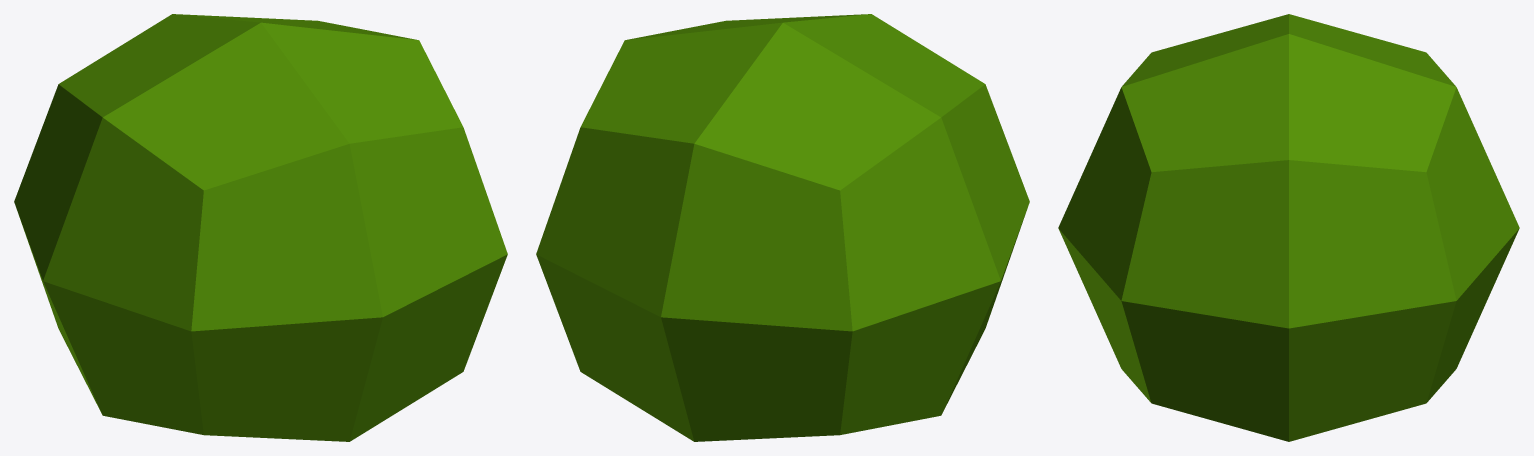
Rendered from Cogollito.fbx.
3 renders of one model, left to right at view 1: azimuth 30°, elevation 25°; view 2: azimuth 150°, elevation 25°; view 3: azimuth 270°, elevation 25°, orthographic. The views are drawn at different scales.
Visible parts, largest first — view 1: Cube; view 2: Cube; view 3: Cube.
Part boxes in pixels (<box>): Cube: <box>14,14,507,441</box>; Cube: <box>536,14,1029,441</box>; Cube: <box>1058,14,1519,441</box>.
Size of the model in its own units: 197 by 177 by 191.
